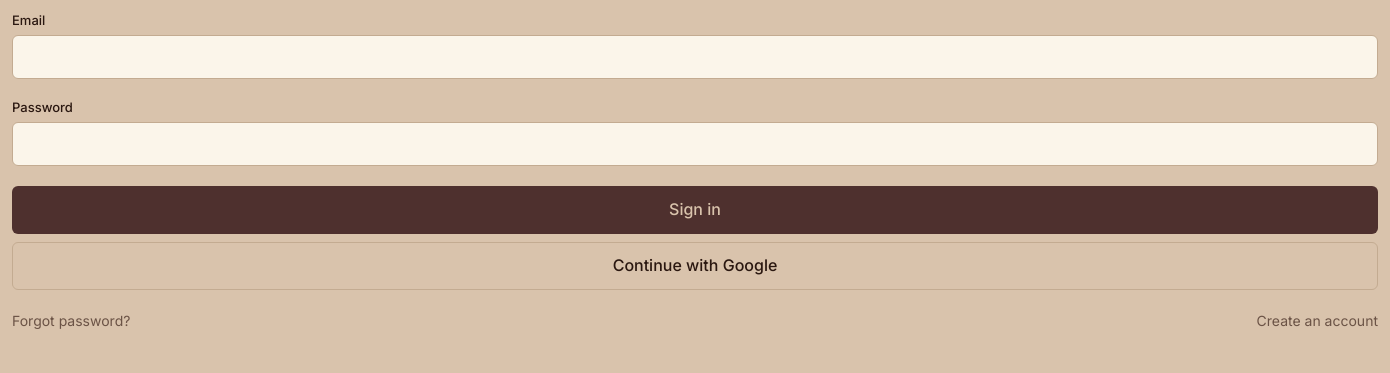
Test: SignInForm › shows email validation error on a malformed address
Type "not-an-email" into the field labelled "Email" at (695, 57), box [12,35,1378,79]
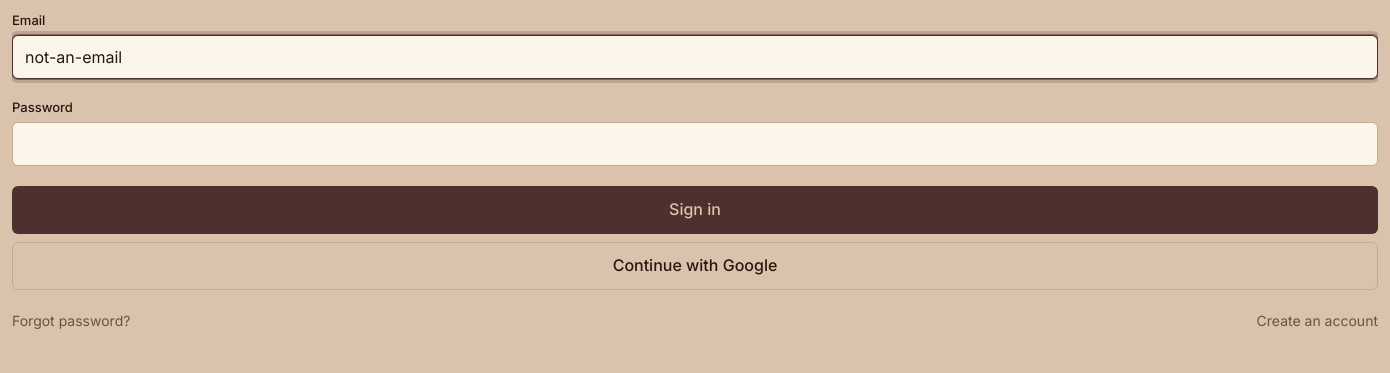
Type "anything" into the password field labelled "Password" at (695, 144), box [12,122,1378,166]
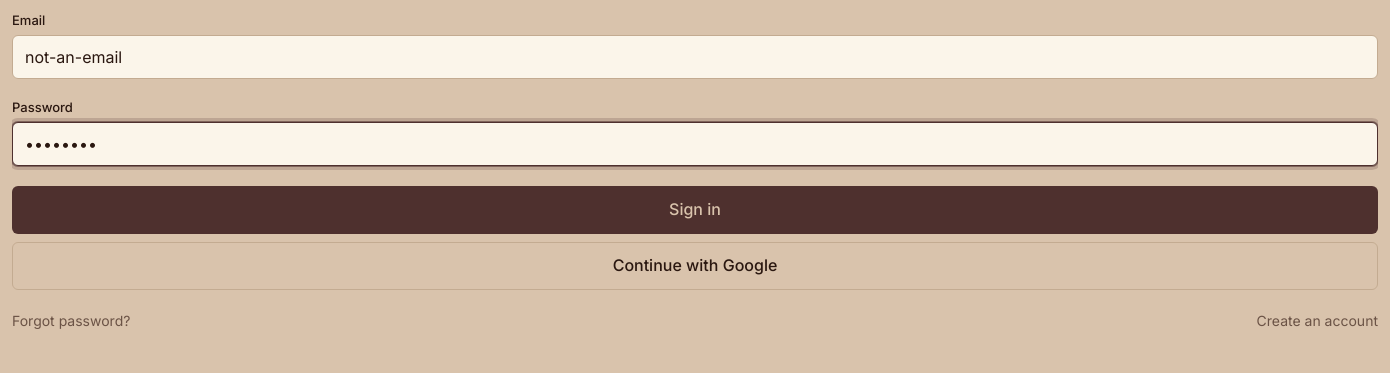
Click the button "Sign in" at (695, 210), box [12,186,1378,234]
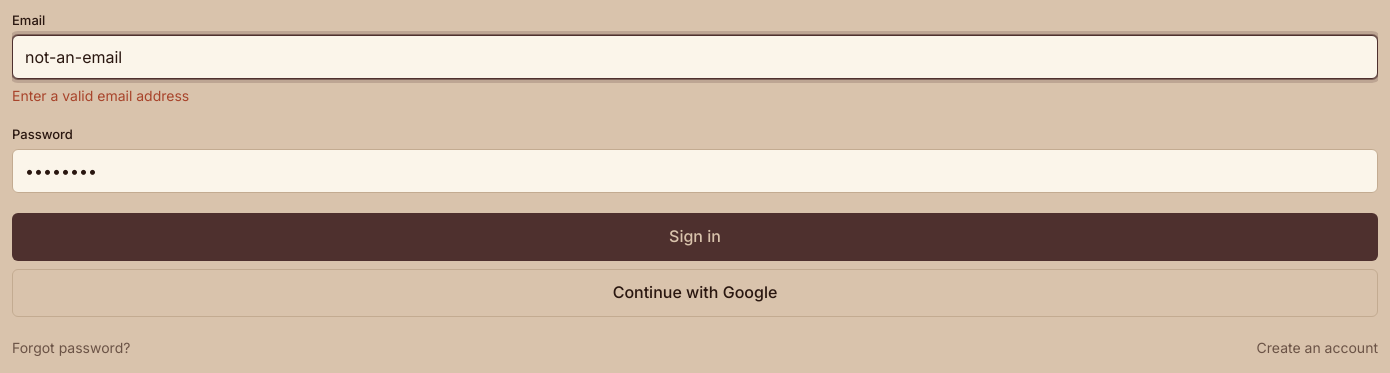
Expected: the text "Enter a valid email address" is shown, [12,87,189,104]
